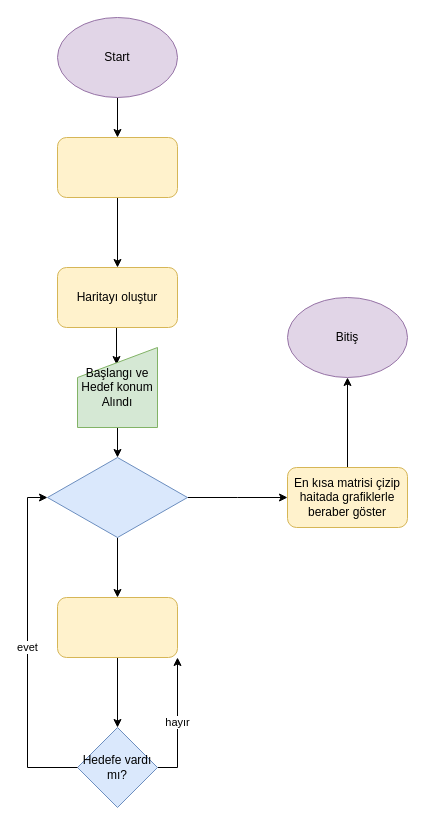
This 425x825 diagram has some shape labels left out. The shapes that lost their labels are listed below. From the top down, each one's centre as x and y in pixels, then its label:
At point (117, 167): "R ve Q matrisi doldur".
At point (117, 497): "İterasyon<1000000".
At point (117, 627): "Q matrisini güncelle".
